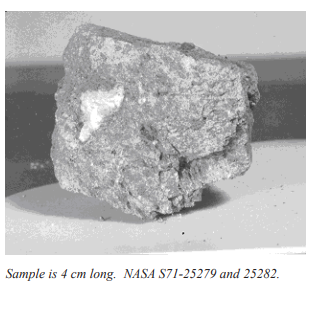Breccia: (11, 22, 245, 221)
